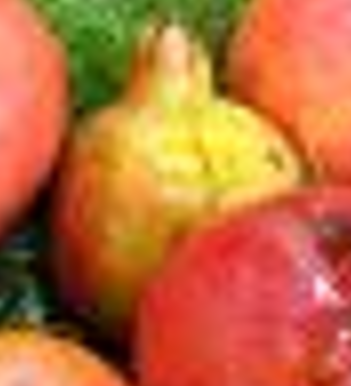pomegranate_B: (45, 11, 315, 346)
